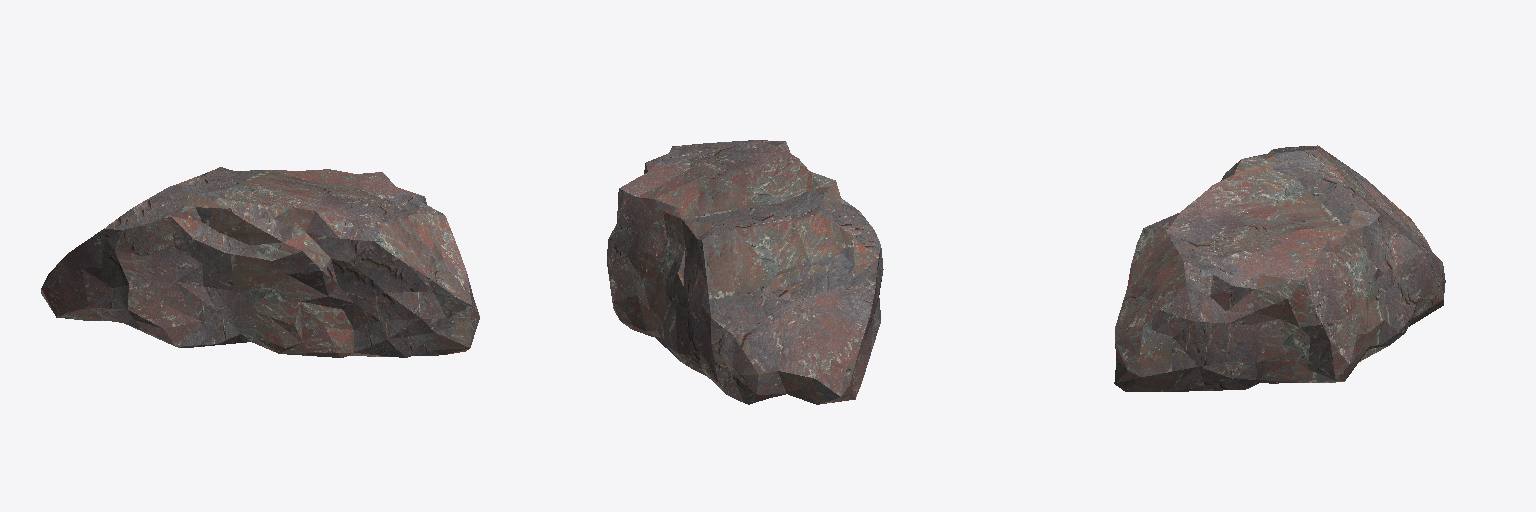
3 views of the same model, side by side, from view 1: azimuth 30°, elevation 25°; view 2: azimuth 150°, elevation 25°; view 3: azimuth 270°, elevation 25° (orthographic).
Parts seen in each view (by area): view 1: Mesh1 skpD4_1 Model; view 2: Mesh1 skpD4_1 Model; view 3: Mesh1 skpD4_1 Model.
Boxes of the visible parts, <box> form: Mesh1 skpD4_1 Model: <box>41,167,479,357</box>; Mesh1 skpD4_1 Model: <box>607,140,883,404</box>; Mesh1 skpD4_1 Model: <box>1114,145,1445,391</box>.
Size of the model in its own units: 0.1096 by 0.0533 by 0.1062.
1 materials, 1 textured.